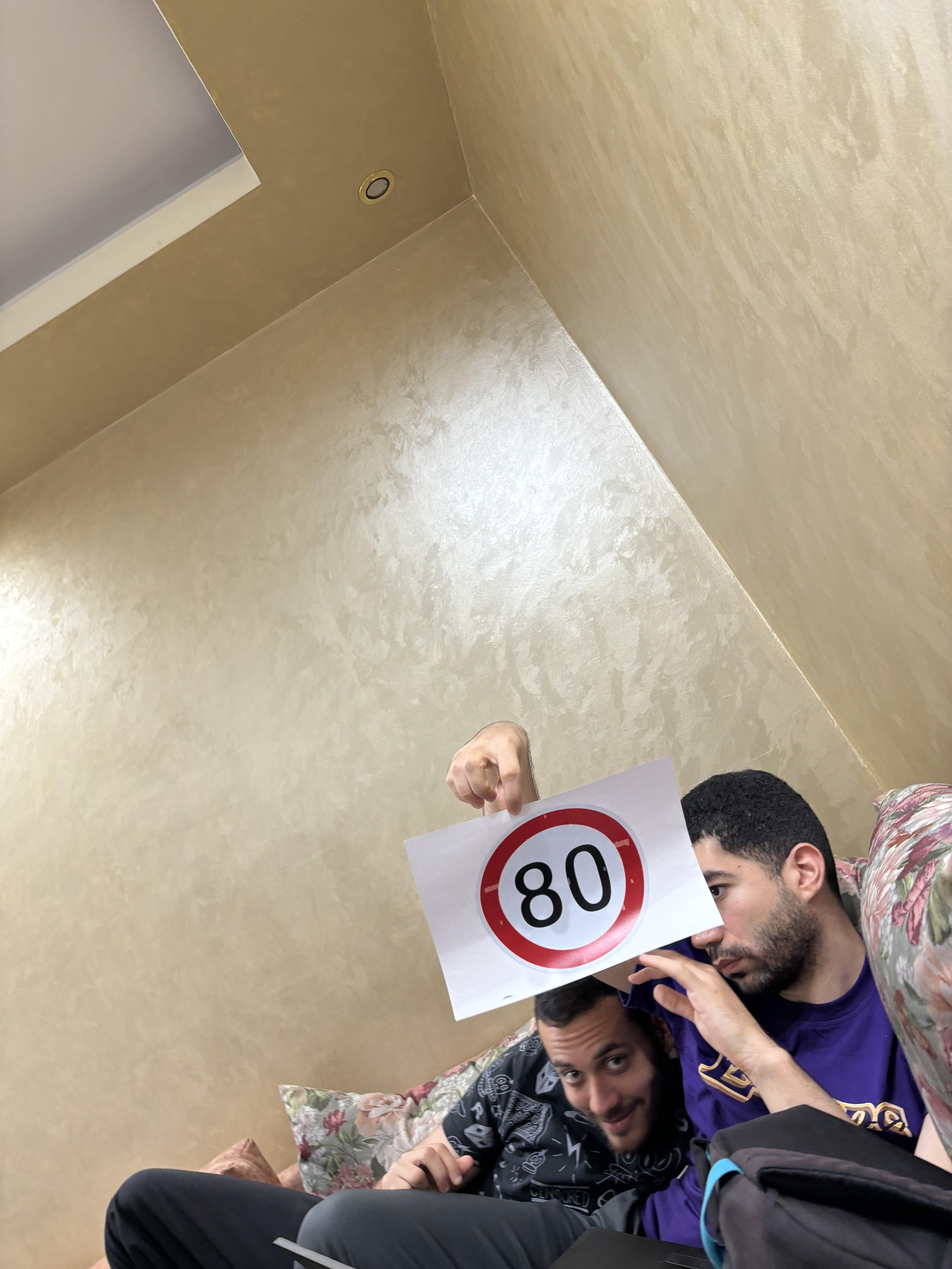80-Speed: (480, 807, 651, 970)
